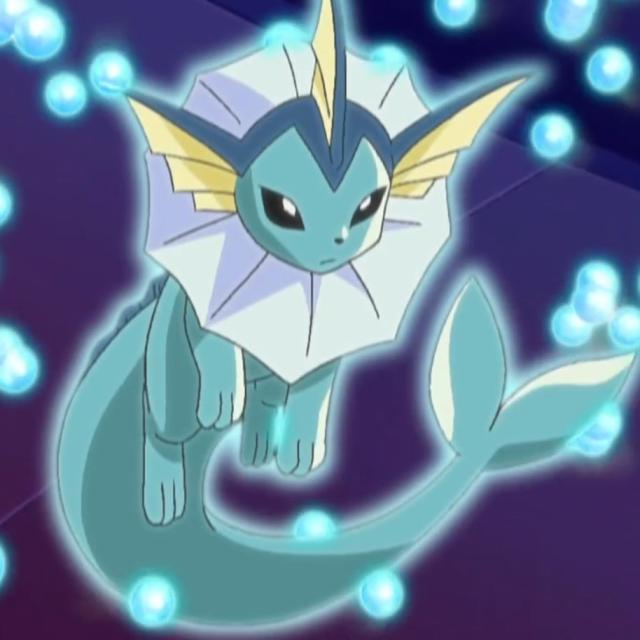Vaporeon: (92, 29, 471, 518)
